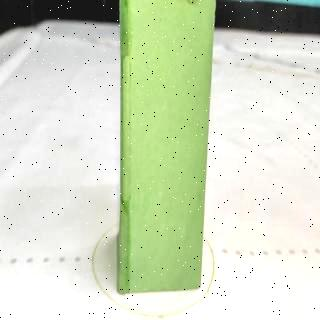greenbox: (119, 1, 210, 289)
